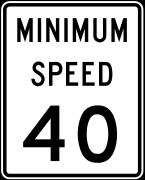Speed limit -40-: (15, 55, 130, 168)
